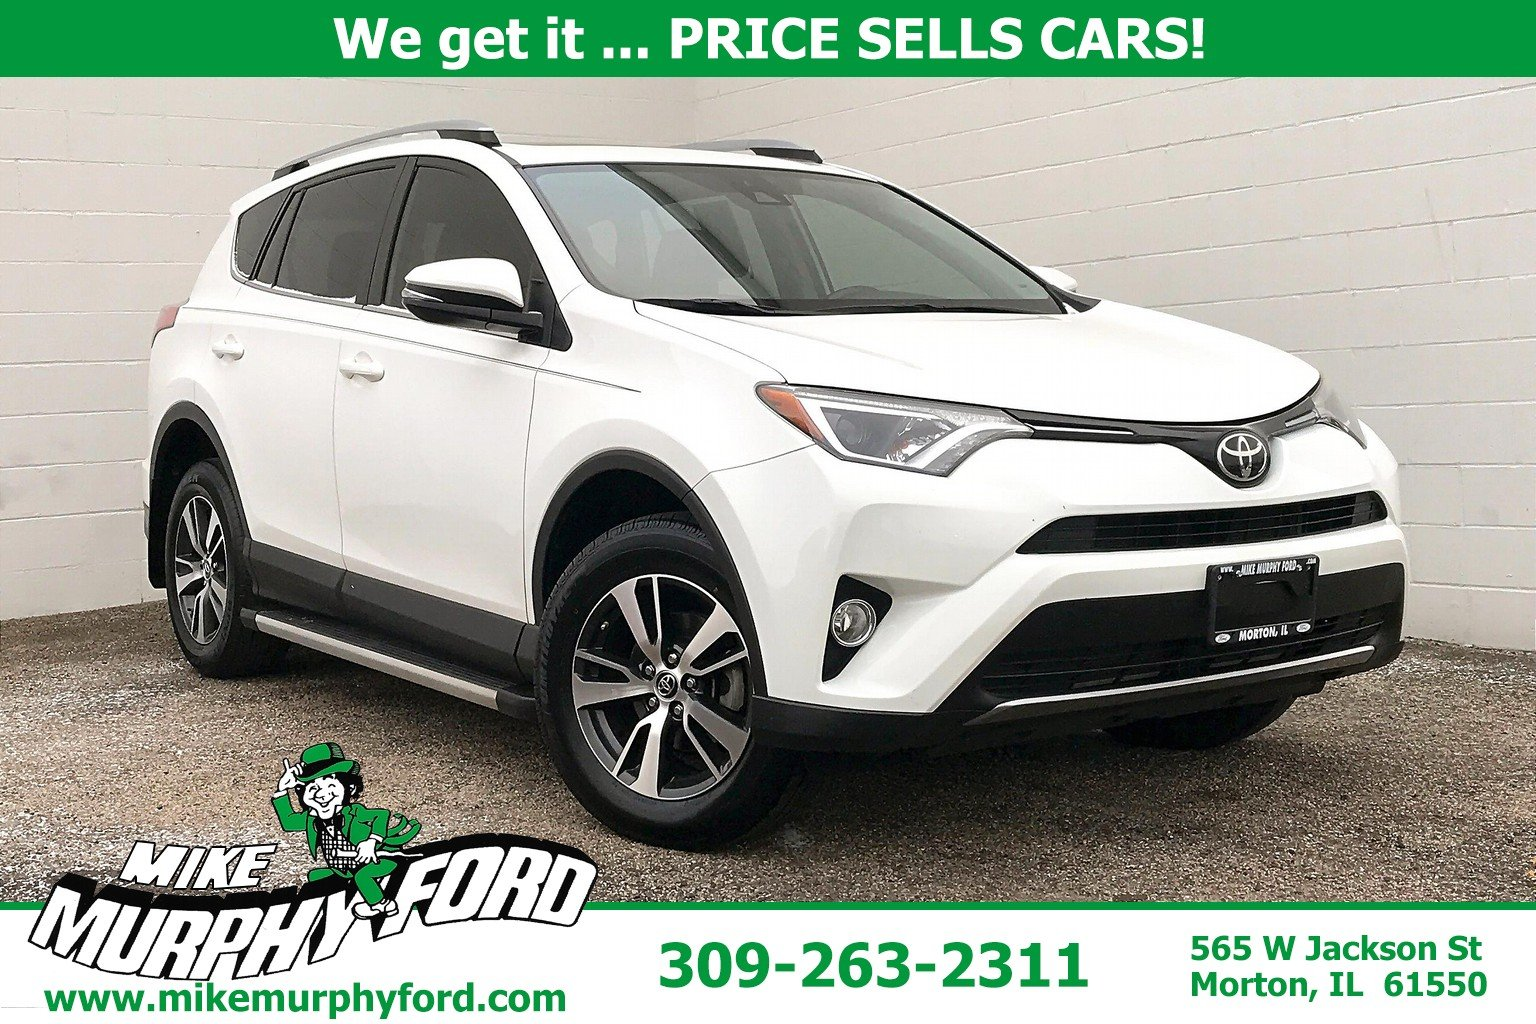Toyota RAV-4: (139, 143, 1413, 851)
